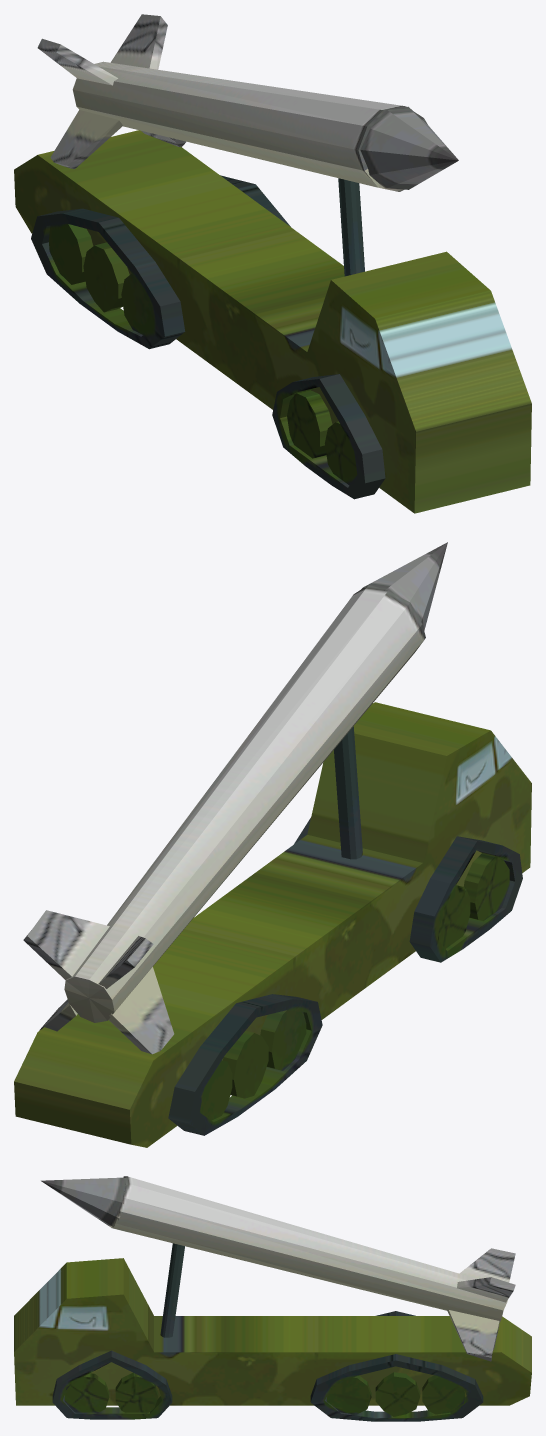
Rendered from WarCar.glb.
The picture shows the model from 3 angles, top to bottom: view 1: azimuth 30°, elevation 25°; view 2: azimuth 150°, elevation 25°; view 3: azimuth 270°, elevation 25°; orthographic projection. The views are drawn at different scales.
Parts seen in each view (by area): view 1: WarCar; view 2: WarCar; view 3: WarCar.
Part boxes in pixels (x1,y1,x2,y2): WarCar: (14,14,531,513); WarCar: (14,542,531,1147); WarCar: (14,1176,531,1421).
Bounding box in the file's own units: 78.75 × 163 × 349.
Materials: 1 (1 with a texture image).
